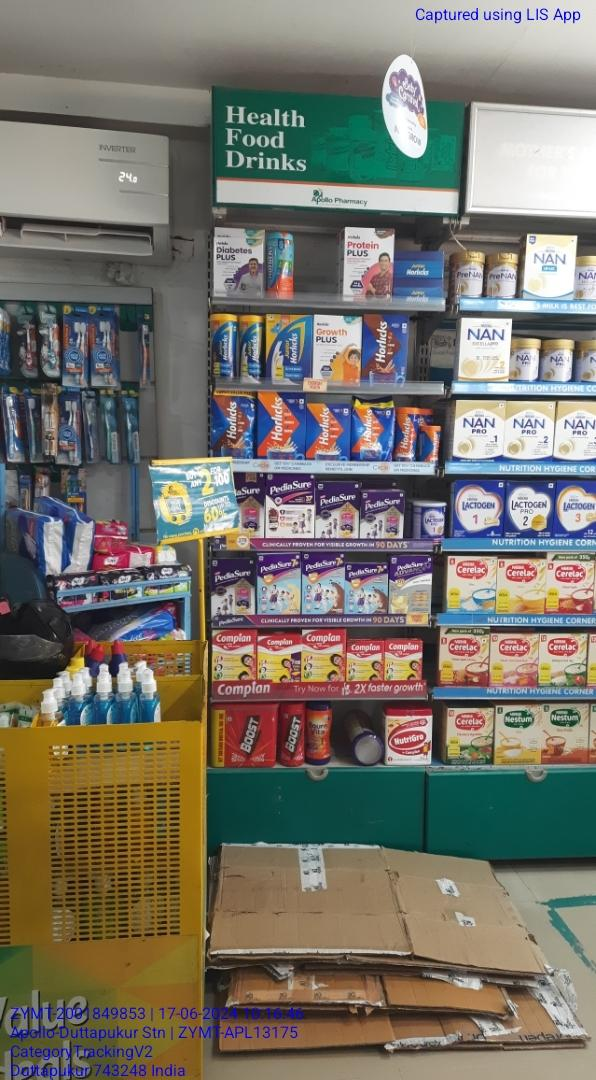COMPLAN_CHOCOLATE_200_GMS_PACK: (385, 640, 423, 681), (347, 641, 384, 681)
HORLICKS_JUNIOR_VANILLA_500_GM_JAR: (239, 315, 263, 383)
PEDIASURE_7_PLUS_CHOCOLATE_400_G_PACK: (303, 553, 344, 614), (346, 560, 388, 613)
